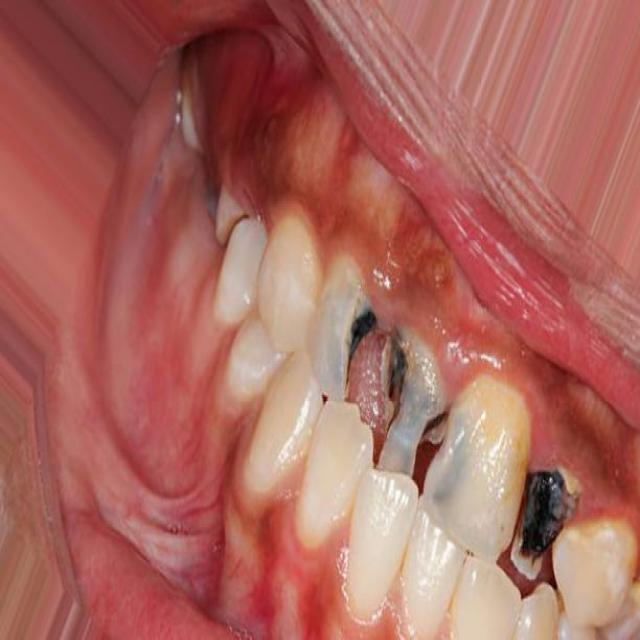caries: (373, 324, 439, 498), (507, 449, 587, 580), (311, 262, 372, 410)
